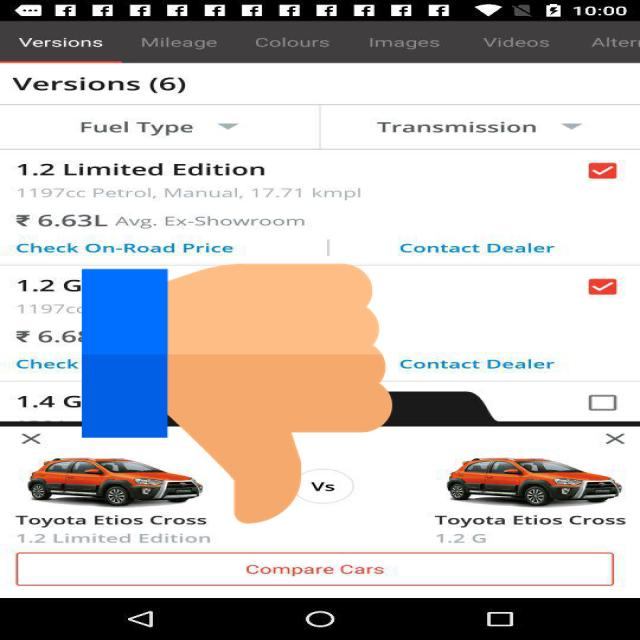obstruction: (82, 257, 392, 530)
